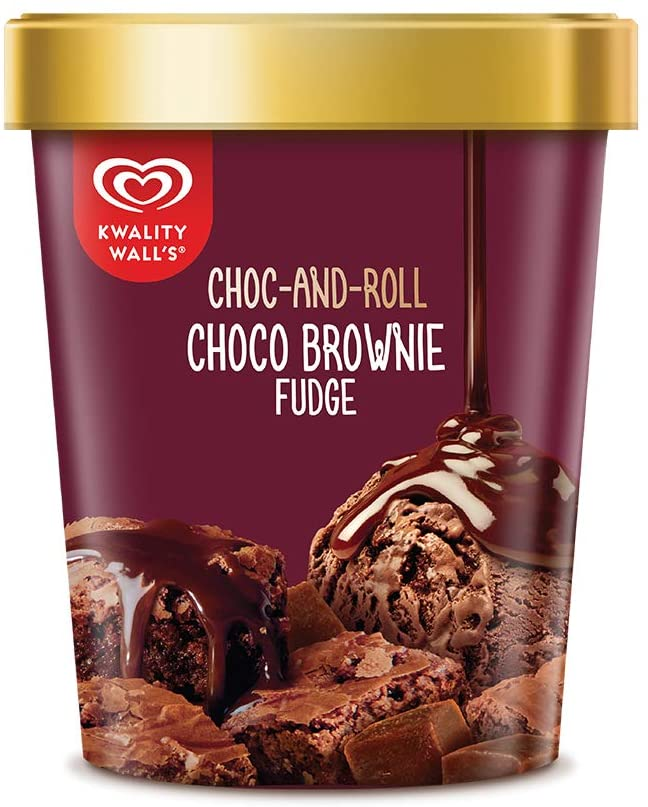Kwality_Walls: (84, 150, 205, 217)
